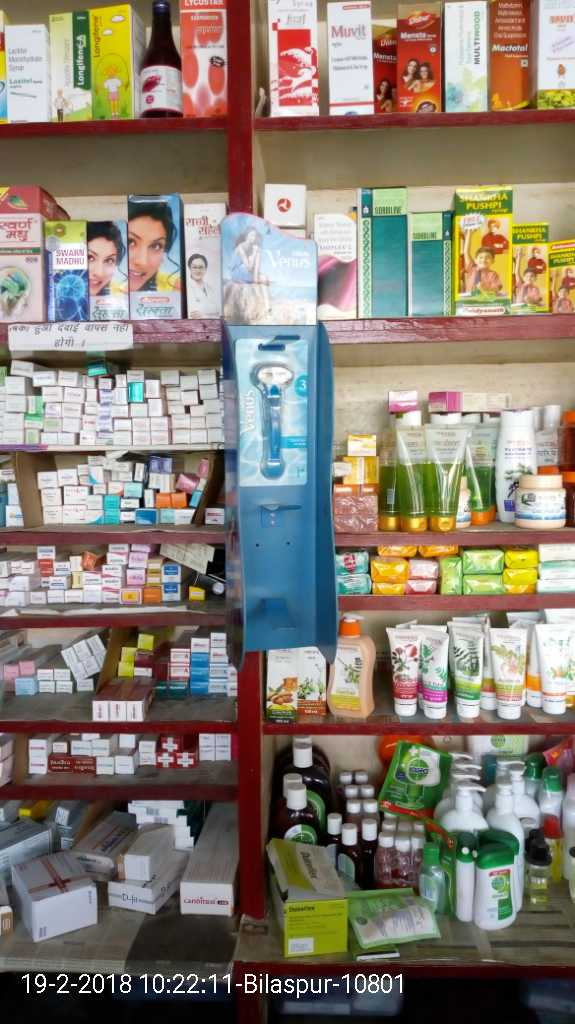venus: (228, 330, 308, 489)
